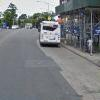Bus: (36, 13, 65, 47)
